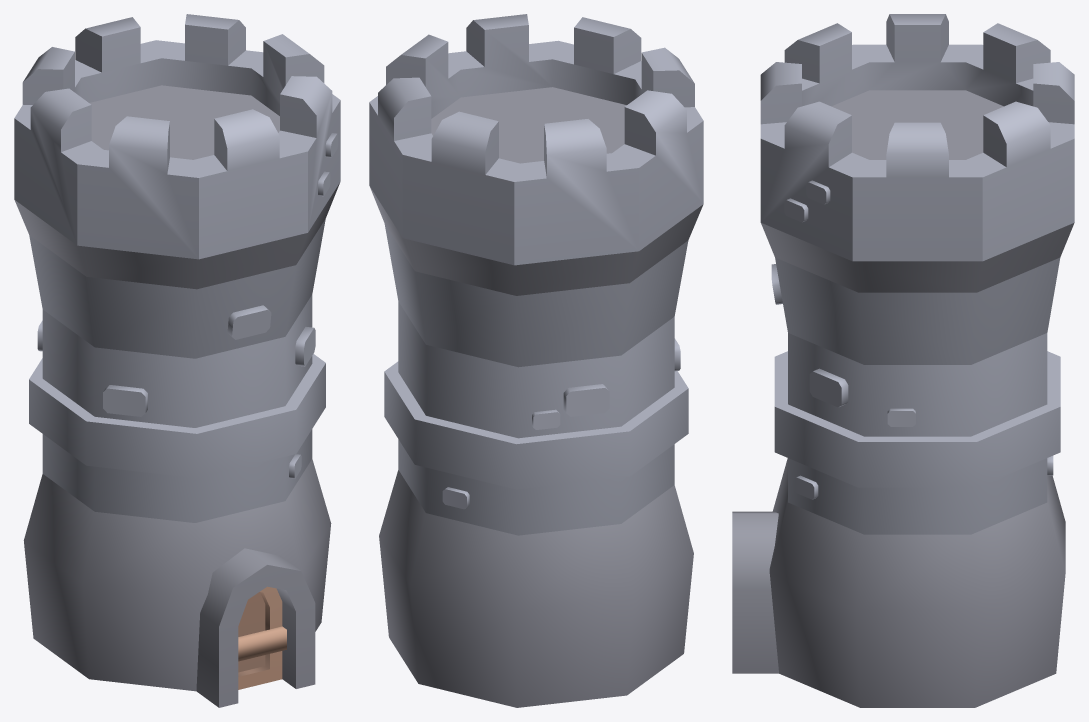
The model's file is tower-complete-small.glb.
3 views of the same model, side by side, from view 1: azimuth 30°, elevation 25°; view 2: azimuth 150°, elevation 25°; view 3: azimuth 270°, elevation 25° (orthographic). The views are drawn at different scales.
Visible parts, largest first — view 1: tower-complete-small; view 2: tower-complete-small; view 3: tower-complete-small.
Part boxes in pixels (left/top/right/bottom): tower-complete-small: left=14, top=14, right=340, bottom=707; tower-complete-small: left=369, top=14, right=703, bottom=707; tower-complete-small: left=732, top=14, right=1074, bottom=707.
Bounding box in the file's own units: 3.35 × 6.78 × 3.66.
